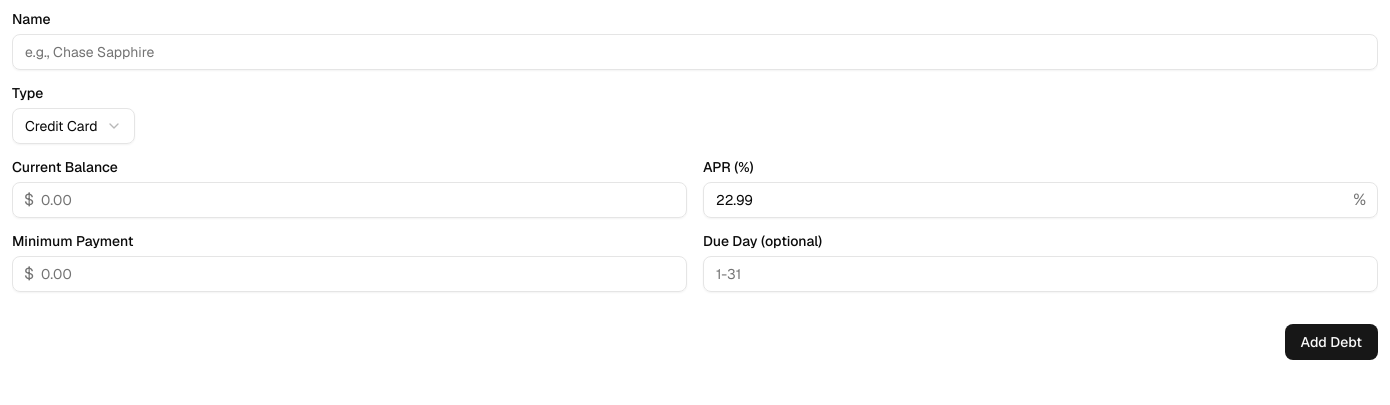
Test: DebtForm › validation › should show error for empty name
This screenshot has width=1390, height=405.
Click the button "Add Debt": (1331, 342) [1285, 324, 1378, 360]
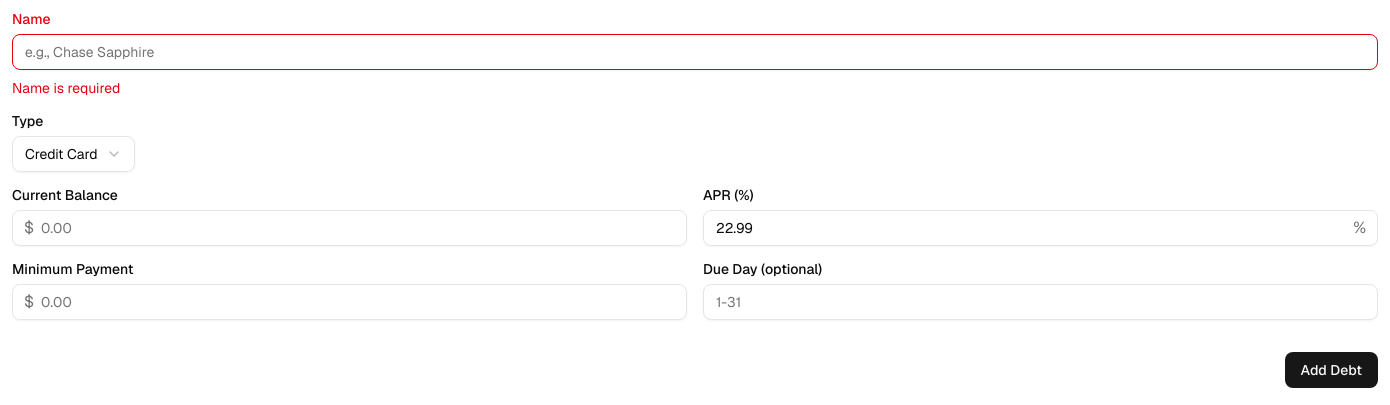
Check: the text "Name is required" is shown, box [12, 79, 120, 97]
